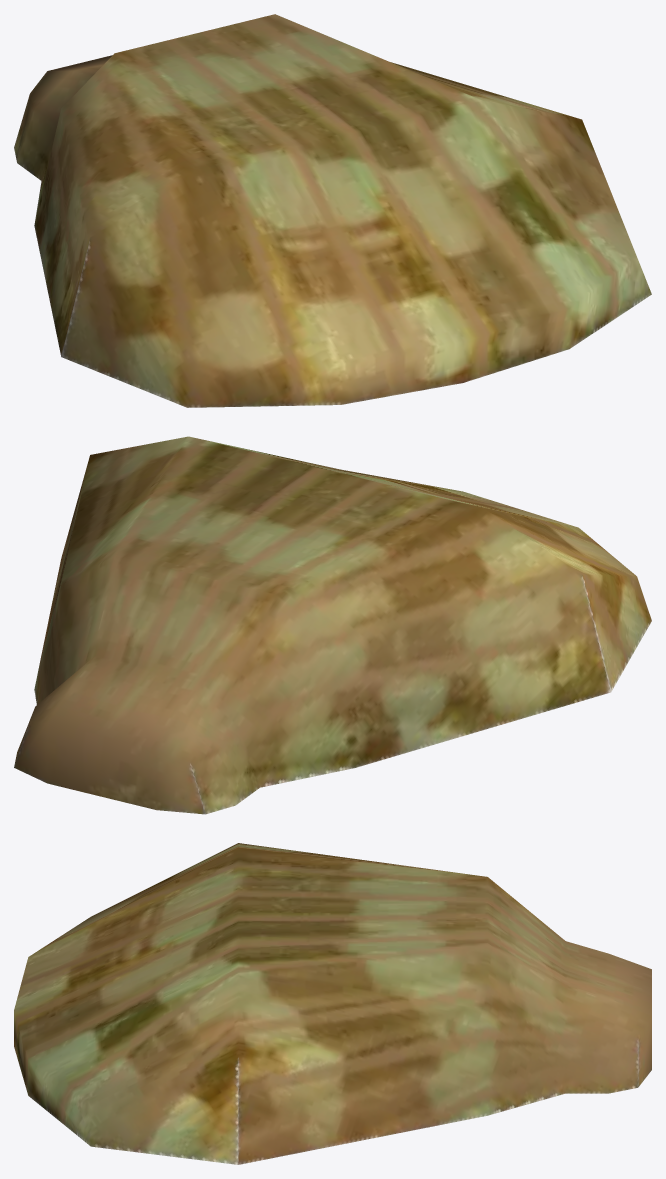
File: pm-shell-01.glb
The picture shows the model from 3 angles, top to bottom: view 1: azimuth 30°, elevation 25°; view 2: azimuth 150°, elevation 25°; view 3: azimuth 270°, elevation 25°; orthographic projection. The views are drawn at different scales.
Visible parts, largest first — view 1: Shell01; view 2: Shell01; view 3: Shell01.
Boxes of the visible parts, x1,y1,x2,y2 form: Shell01: (14,14,651,407); Shell01: (14,436,651,814); Shell01: (14,843,651,1164).
Size of the model in its own units: 0.6242 by 0.1659 by 0.7104.
1 material, 1 textured.
